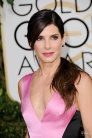female: (26, 10, 68, 70)
